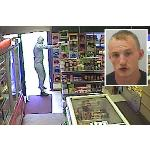Pistol: (54, 39, 66, 47)
